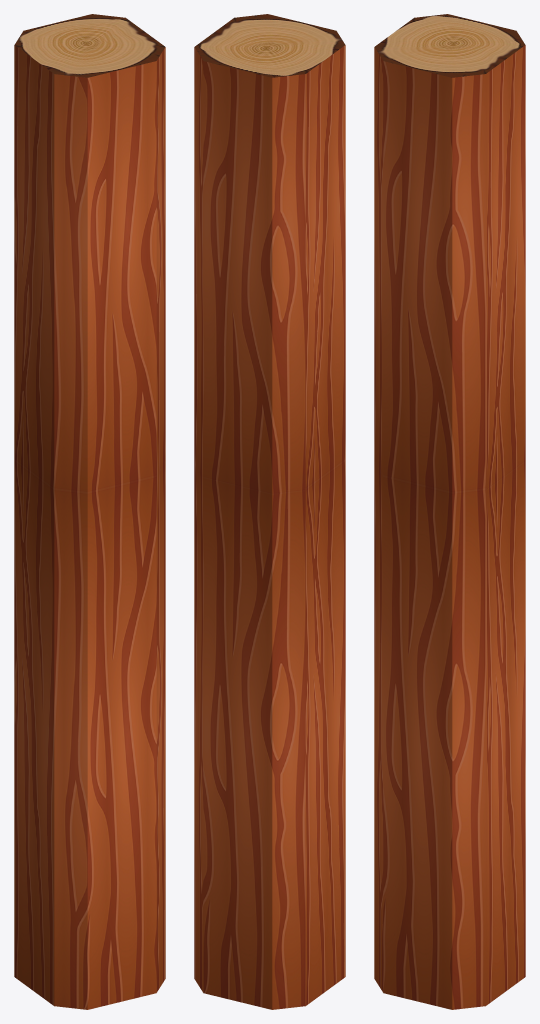
File: log.fbx
The picture shows the model from 3 angles, left to right: view 1: azimuth 30°, elevation 25°; view 2: azimuth 150°, elevation 25°; view 3: azimuth 330°, elevation 25°; orthographic projection.
Visible parts, largest first — view 1: Cube; view 2: Cube; view 3: Cube.
Part boxes in pixels (bbox=[...]): Cube: bbox=[14, 14, 165, 1009]; Cube: bbox=[194, 14, 345, 1009]; Cube: bbox=[374, 14, 525, 1009].
Bounding box in the file's own units: 100 × 800 × 100.
